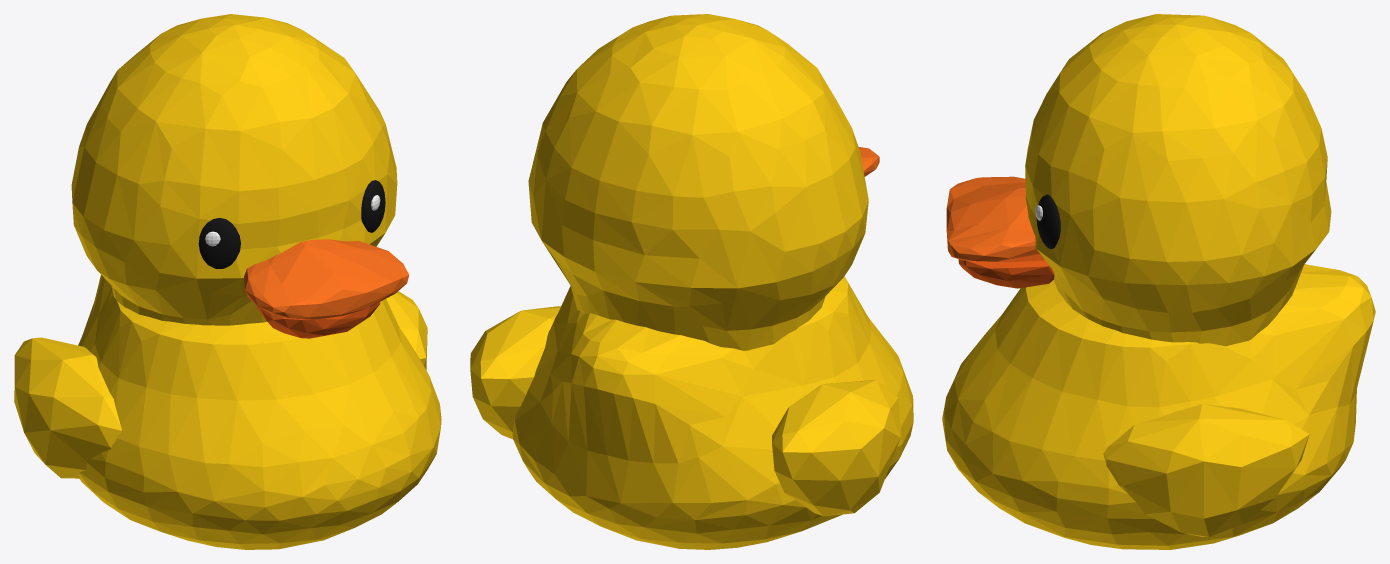
Rendered from rubber_duck_1.glb.
3 renders of one model, left to right at view 1: azimuth 30°, elevation 25°; view 2: azimuth 150°, elevation 25°; view 3: azimuth 270°, elevation 25°, orthographic. The views are drawn at different scales.
Parts seen in each view (by area): view 1: head, body, wing_R, beak_upper, beak_lower, eye_R, wing_L, eye_L; view 2: head, body, wing_R, wing_L; view 3: head, body, wing_L, beak_upper, beak_lower, eye_L.
Part boxes in pixels (bbox=[...]): head: bbox=[71, 14, 397, 325]; body: bbox=[78, 275, 441, 549]; wing_R: bbox=[14, 337, 121, 478]; beak_upper: bbox=[244, 239, 409, 319]; beak_lower: bbox=[256, 302, 380, 338]; eye_R: bbox=[198, 217, 240, 268]; wing_L: bbox=[386, 291, 427, 369]; eye_L: bbox=[361, 180, 385, 232]; head: bbox=[528, 14, 868, 350]; body: bbox=[512, 276, 913, 549]; wing_R: bbox=[772, 380, 900, 516]; wing_L: bbox=[470, 306, 560, 439]; head: bbox=[1025, 14, 1331, 346]; body: bbox=[942, 264, 1375, 549]; wing_L: bbox=[1103, 404, 1309, 536]; beak_upper: bbox=[946, 176, 1039, 261]; beak_lower: bbox=[958, 254, 1054, 288]; eye_L: bbox=[1036, 194, 1060, 248].
Size of the model in its own units: 1.65 by 2 by 1.57.
